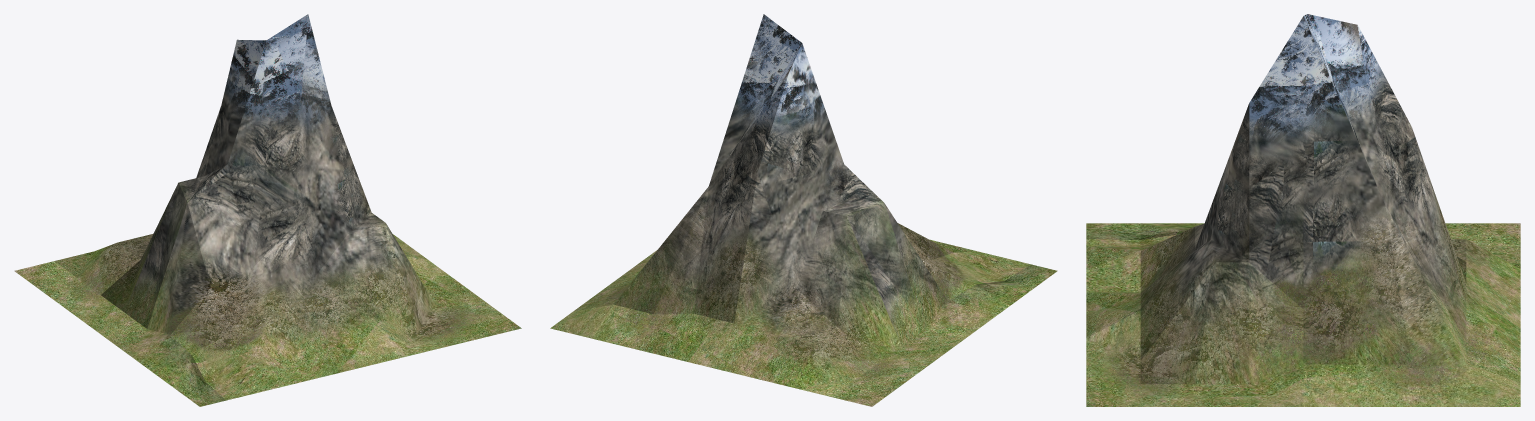
Rendered from Mountain1.obj.
3 renders of one model, left to right at view 1: azimuth 30°, elevation 25°; view 2: azimuth 150°, elevation 25°; view 3: azimuth 270°, elevation 25°, orthographic. The views are drawn at different scales.
Parts seen in each view (by area): view 1: Plane; view 2: Plane; view 3: Plane.
Boxes of the visible parts, left/top/right/bottom form: Plane: left=14, top=14, right=521, bottom=406; Plane: left=550, top=14, right=1057, bottom=406; Plane: left=1086, top=14, right=1520, bottom=406.
Size of the model in its own units: 2 by 1.64 by 2.
